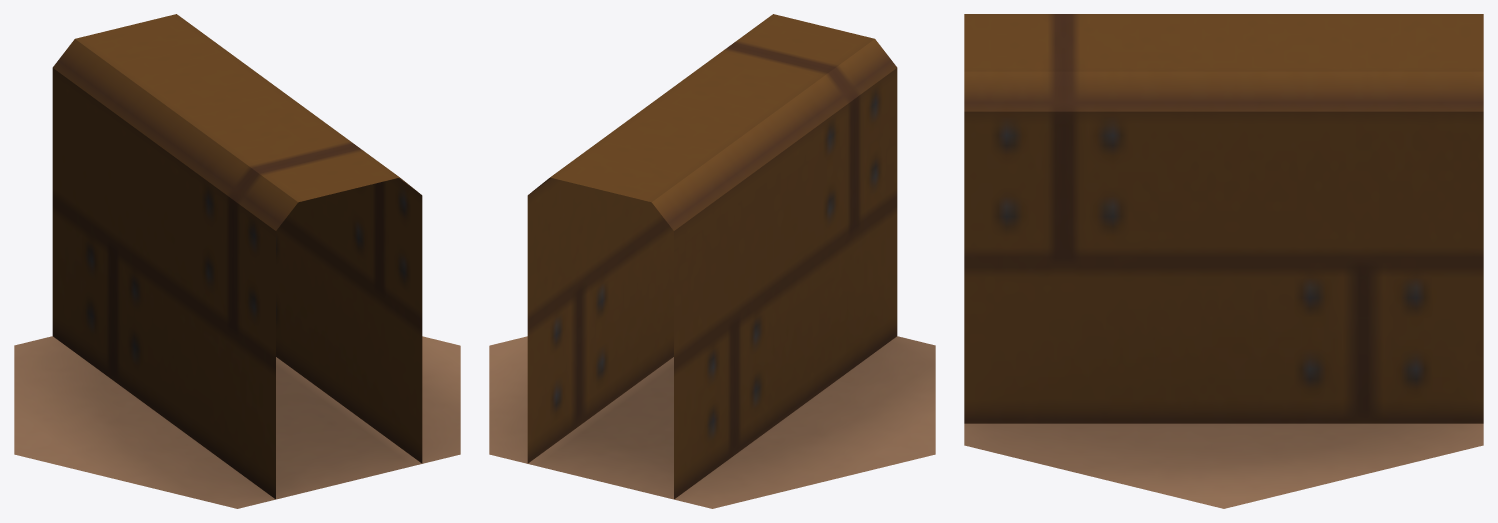
File: Barriere_Centre.FBX
The picture shows the model from 3 angles, left to right: view 1: azimuth 30°, elevation 25°; view 2: azimuth 150°, elevation 25°; view 3: azimuth 270°, elevation 25°; orthographic projection. The views are drawn at different scales.
Visible parts, largest first — view 1: Barriere_Centre; view 2: Barriere_Centre; view 3: Barriere_Centre.
Part boxes in pixels (box(x1,y1,x2,y2)): Barriere_Centre: box(14, 14, 460, 508); Barriere_Centre: box(489, 14, 935, 508); Barriere_Centre: box(964, 14, 1483, 508).
Size of the model in its own units: 1 by 0.6247 by 0.8663.
